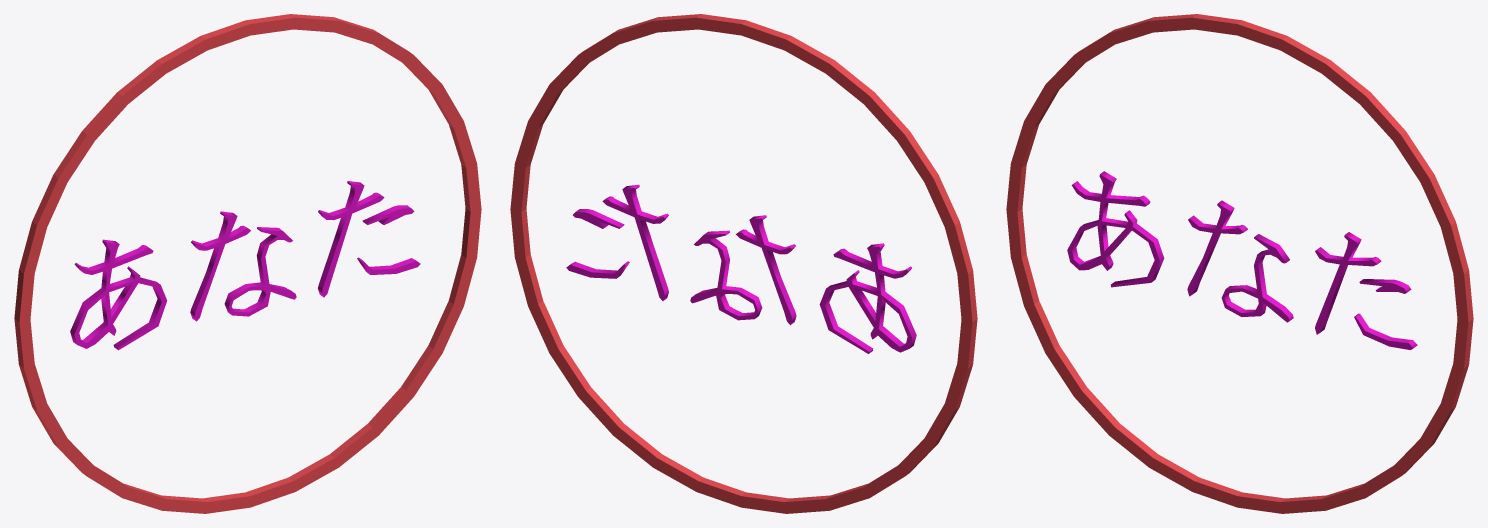
File: CircleBilboard.fbx
The picture shows the model from 3 angles, left to right: view 1: azimuth 30°, elevation 25°; view 2: azimuth 150°, elevation 25°; view 3: azimuth 330°, elevation 25°; orthographic projection.
Parts seen in each view (by area): view 1: Circle.003, Text.023; view 2: Circle.003, Text.023; view 3: Circle.003, Text.023.
Boxes of the visible parts, x1,y1,x2,y2 form: Circle.003: (14, 14, 481, 513); Text.023: (70, 181, 420, 350); Circle.003: (510, 14, 977, 513); Text.023: (566, 184, 916, 353); Circle.003: (1006, 14, 1473, 513); Text.023: (1067, 171, 1417, 349).
Size of the model in its own units: 5.25 by 5.25 by 0.1425.
